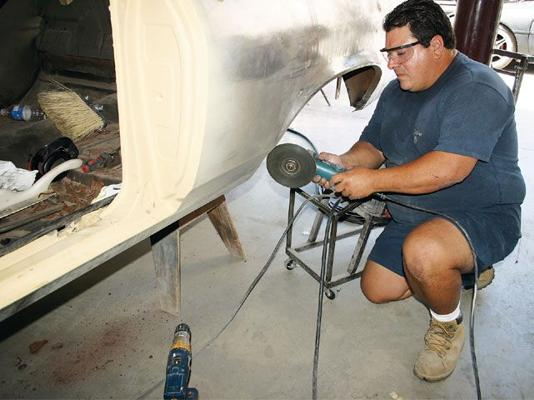person: (307, 3, 527, 383)
